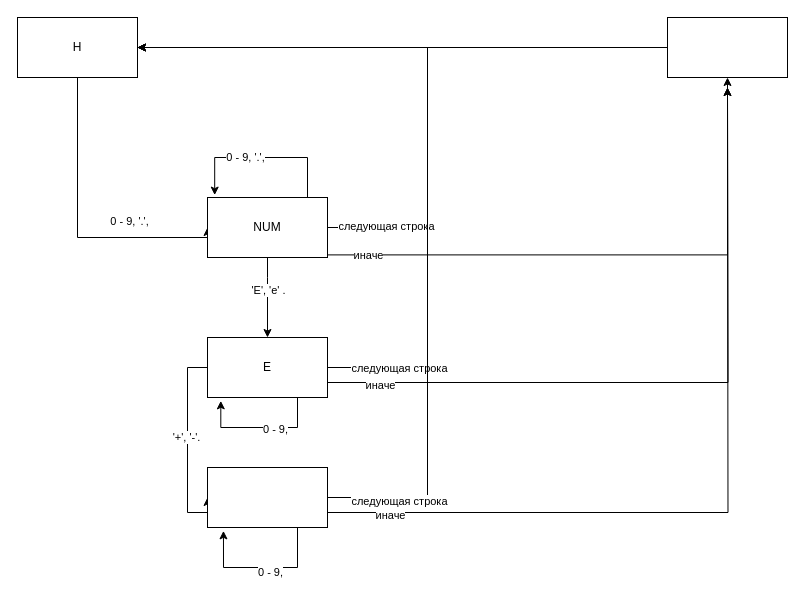
The diagram is 805 pixels wide and 596 high, and some of its shapes have lost their labels. Here are the shapes that lost their labels. From the top down, the box of each, then its label:
(666, 16, 788, 78): ERROR
(206, 466, 328, 528): PLUS_MINUS
